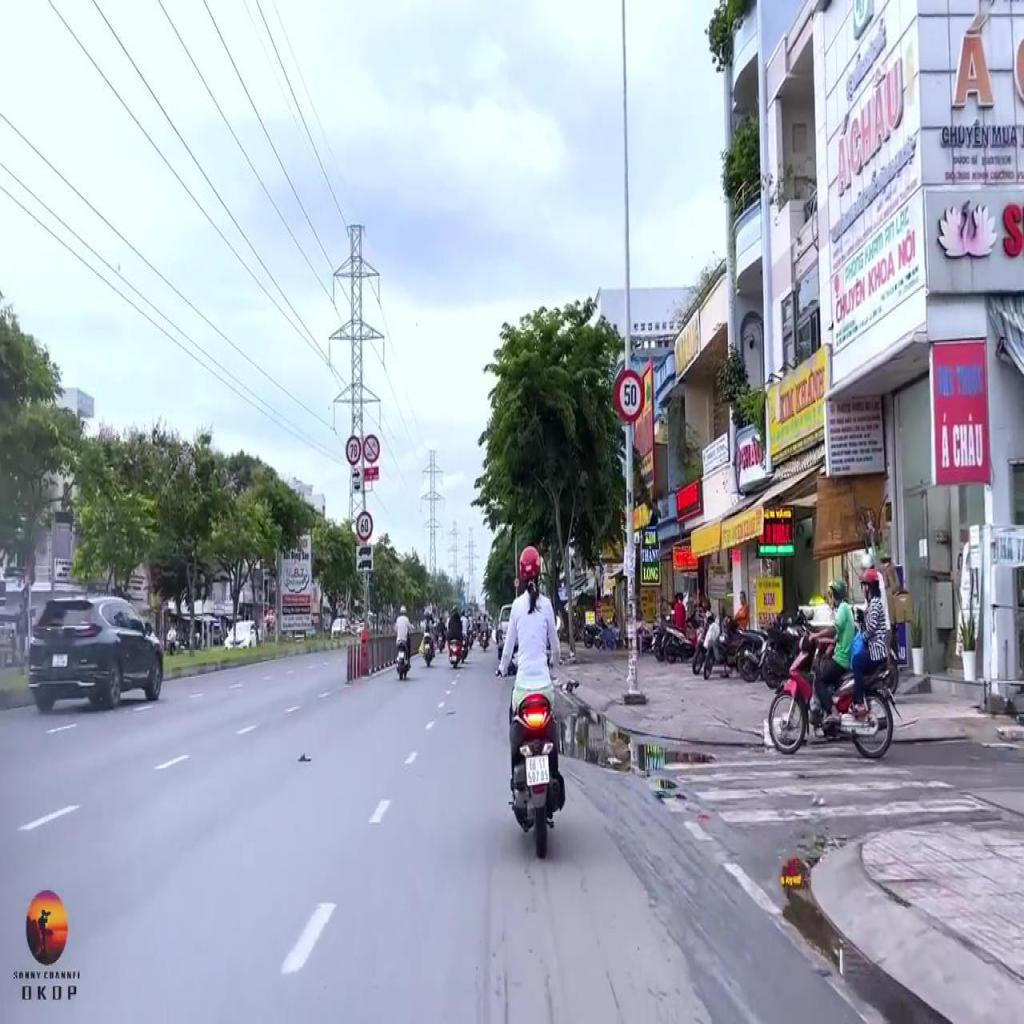cam_xe_2_banh_va_xe_3_banh_co_dong_co: (363, 434, 380, 464)
khac: (346, 436, 361, 464), (356, 558, 374, 573), (356, 545, 374, 559), (352, 466, 362, 480), (353, 481, 363, 492)
toc_do_toi_da_50: (614, 370, 646, 421)
toc_do_toi_da_60: (357, 510, 373, 542)
